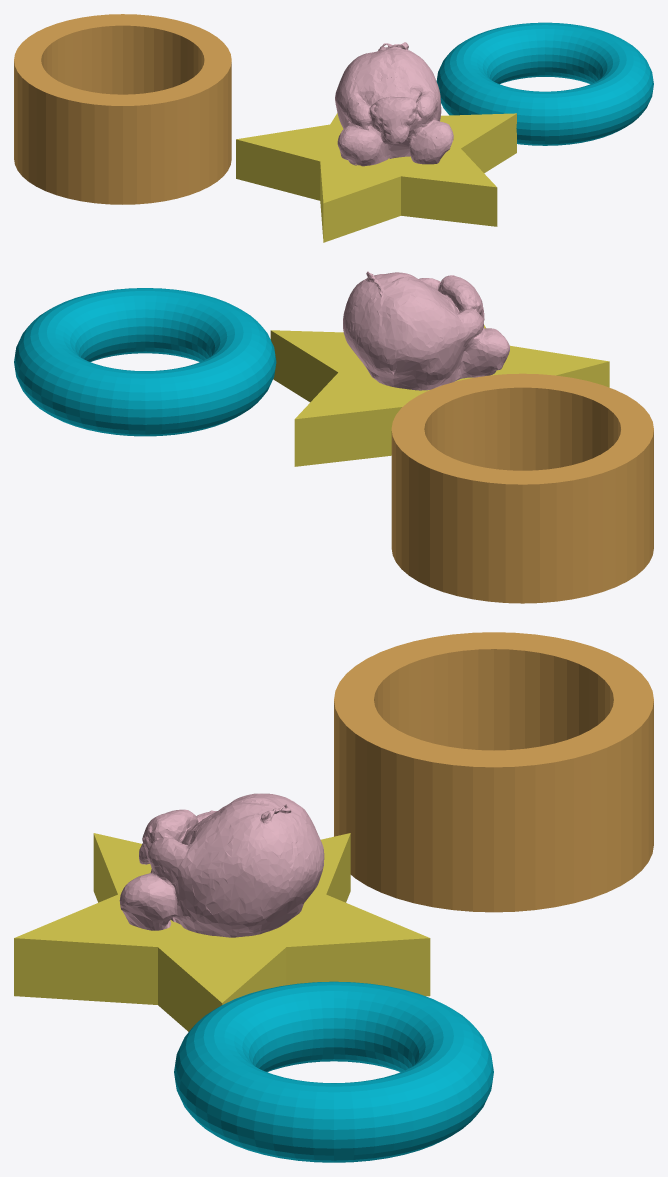
File: tinker_kirby.glb
3 views of the same model, one above another, from view 1: azimuth 30°, elevation 25°; view 2: azimuth 150°, elevation 25°; view 3: azimuth 270°, elevation 25° (orthographic). The views are drawn at different scales.
Parts seen in each view (by area): view 1: Mesh_Mesh_head_geo.001_lambert2SG.001; view 2: Mesh_Mesh_head_geo.001_lambert2SG.001; view 3: Mesh_Mesh_head_geo.001_lambert2SG.001.
Boxes of the visible parts, x1,y1,x2,y2 form: Mesh_Mesh_head_geo.001_lambert2SG.001: (14,14,653,242); Mesh_Mesh_head_geo.001_lambert2SG.001: (14,271,653,603); Mesh_Mesh_head_geo.001_lambert2SG.001: (14,632,653,1162).
Bounding box in the file's own units: 0.059 × 0.0124 × 0.04.
